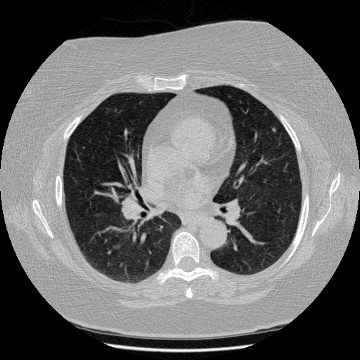PN: (272, 128, 276, 132)
